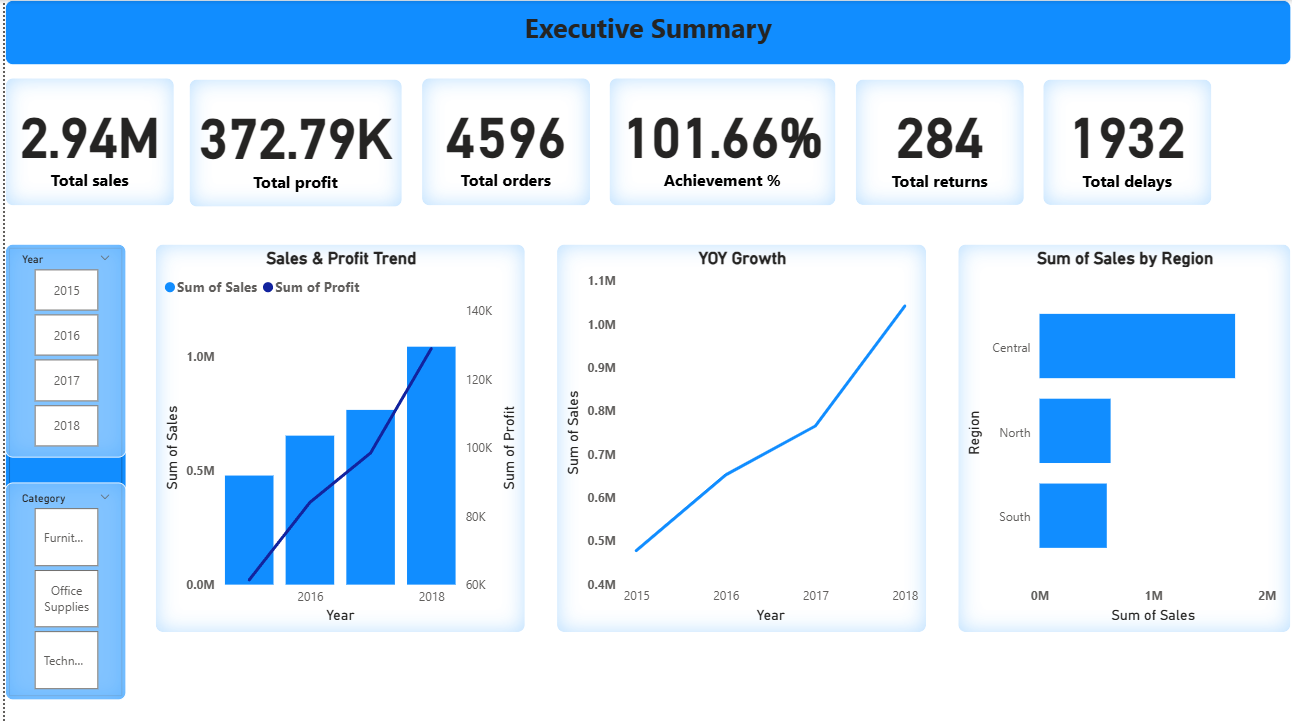

This screenshot's page, from the dashboard's own definition file:
{"tool":"powerbi","page":{"name":"Page 1","canvas":[1280,720],"ordinal":0},"visuals":[{"type":"card","fields":{"Values":["_Measures.Total sales"]},"box":[0,76.8,168.8,127.6],"z":0},{"type":"card","fields":{"Values":["_Measures.Total profit"]},"box":[182.5,78.2,212.7,127.6],"z":1000},{"type":"card","fields":{"Values":["_Measures.Total orders"]},"box":[414.4,76.8,168.8,127.6],"z":2000},{"type":"textbox","box":[0,0,1280.3,64.5],"z":3000},{"type":"card","fields":{"Values":["_Measures.Achievement %"]},"box":[601,76.8,226.4,127.6],"z":4000},{"type":"card","fields":{"Values":["_Measures.Total returns"]},"box":[845.3,78.2,168.8,126.2],"z":5000},{"type":"card","fields":{"Values":["_Measures.Total delays"]},"box":[1031.9,78.2,168.8,126.2],"z":6000},{"type":"lineStackedColumnComboChart","title":"Sales & Profit Trend","fields":{"Category":["fact_orders.Order Date.Variation.Date Hierarchy.Year","fact_orders.Order Date.Variation.Date Hierarchy.Quarter","fact_orders.Order Date.Variation.Date Hierarchy.Month","fact_orders.Order Date.Variation.Date Hierarchy.Day"],"Y":["Sum(fact_orders.Sales)"],"Y2":["Sum(fact_orders.Profit)"]},"box":[149.6,242.9,369.1,387],"z":7000},{"type":"lineChart","title":"YOY Growth","fields":{"Category":["fact_orders.Order Date.Variation.Date Hierarchy.Year"],"Y":["Sum(fact_orders.Sales)"]},"box":[548.9,242.9,369.1,387],"z":8000},{"type":"shape","box":[0,242.9,120.8,454.2],"z":8500},{"type":"clusteredBarChart","fields":{"Y":["Sum(fact_orders.Sales)"],"Category":["fact_orders.Region"]},"box":[948.2,242.9,332.1,387],"z":9000},{"type":"slicer","fields":{"Values":["fact_orders.Year"]},"box":[0,242.9,120.8,212.7],"z":10000},{"type":"slicer","fields":{"Values":["fact_orders.Category"]},"box":[0,480.3,120.8,216.8],"z":12000}]}

Visuals, with their boxes in screenshot pixels (x1, y1, x2, y2), scaled from the page's 1280x720 canvas onto the 1292x721 screenshot:
card - _Measures.Total sales: x1=0, y1=77, x2=170, y2=205
card - _Measures.Total profit: x1=184, y1=78, x2=399, y2=206
card - _Measures.Total orders: x1=418, y1=77, x2=589, y2=205
textbox: x1=0, y1=0, x2=1291, y2=65
card - _Measures.Achievement %: x1=607, y1=77, x2=835, y2=205
card - _Measures.Total returns: x1=853, y1=78, x2=1024, y2=205
card - _Measures.Total delays: x1=1042, y1=78, x2=1212, y2=205
"Sales & Profit Trend" lineStackedColumnComboChart: x1=151, y1=243, x2=524, y2=631
"YOY Growth" lineChart: x1=554, y1=243, x2=927, y2=631
shape: x1=0, y1=243, x2=122, y2=698
clusteredBarChart - Sum(fact_orders.Sales) x fact_orders.Region: x1=957, y1=243, x2=1291, y2=631
slicer - fact_orders.Year: x1=0, y1=243, x2=122, y2=456
slicer - fact_orders.Category: x1=0, y1=481, x2=122, y2=698
